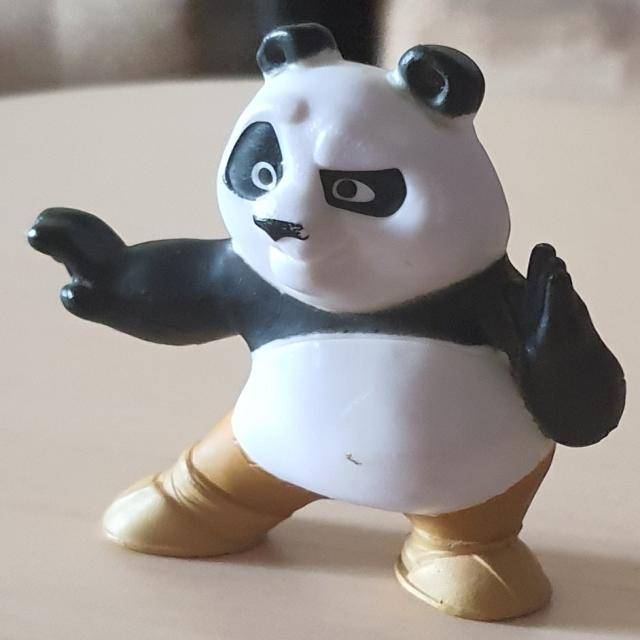Panda: (26, 21, 627, 622)
